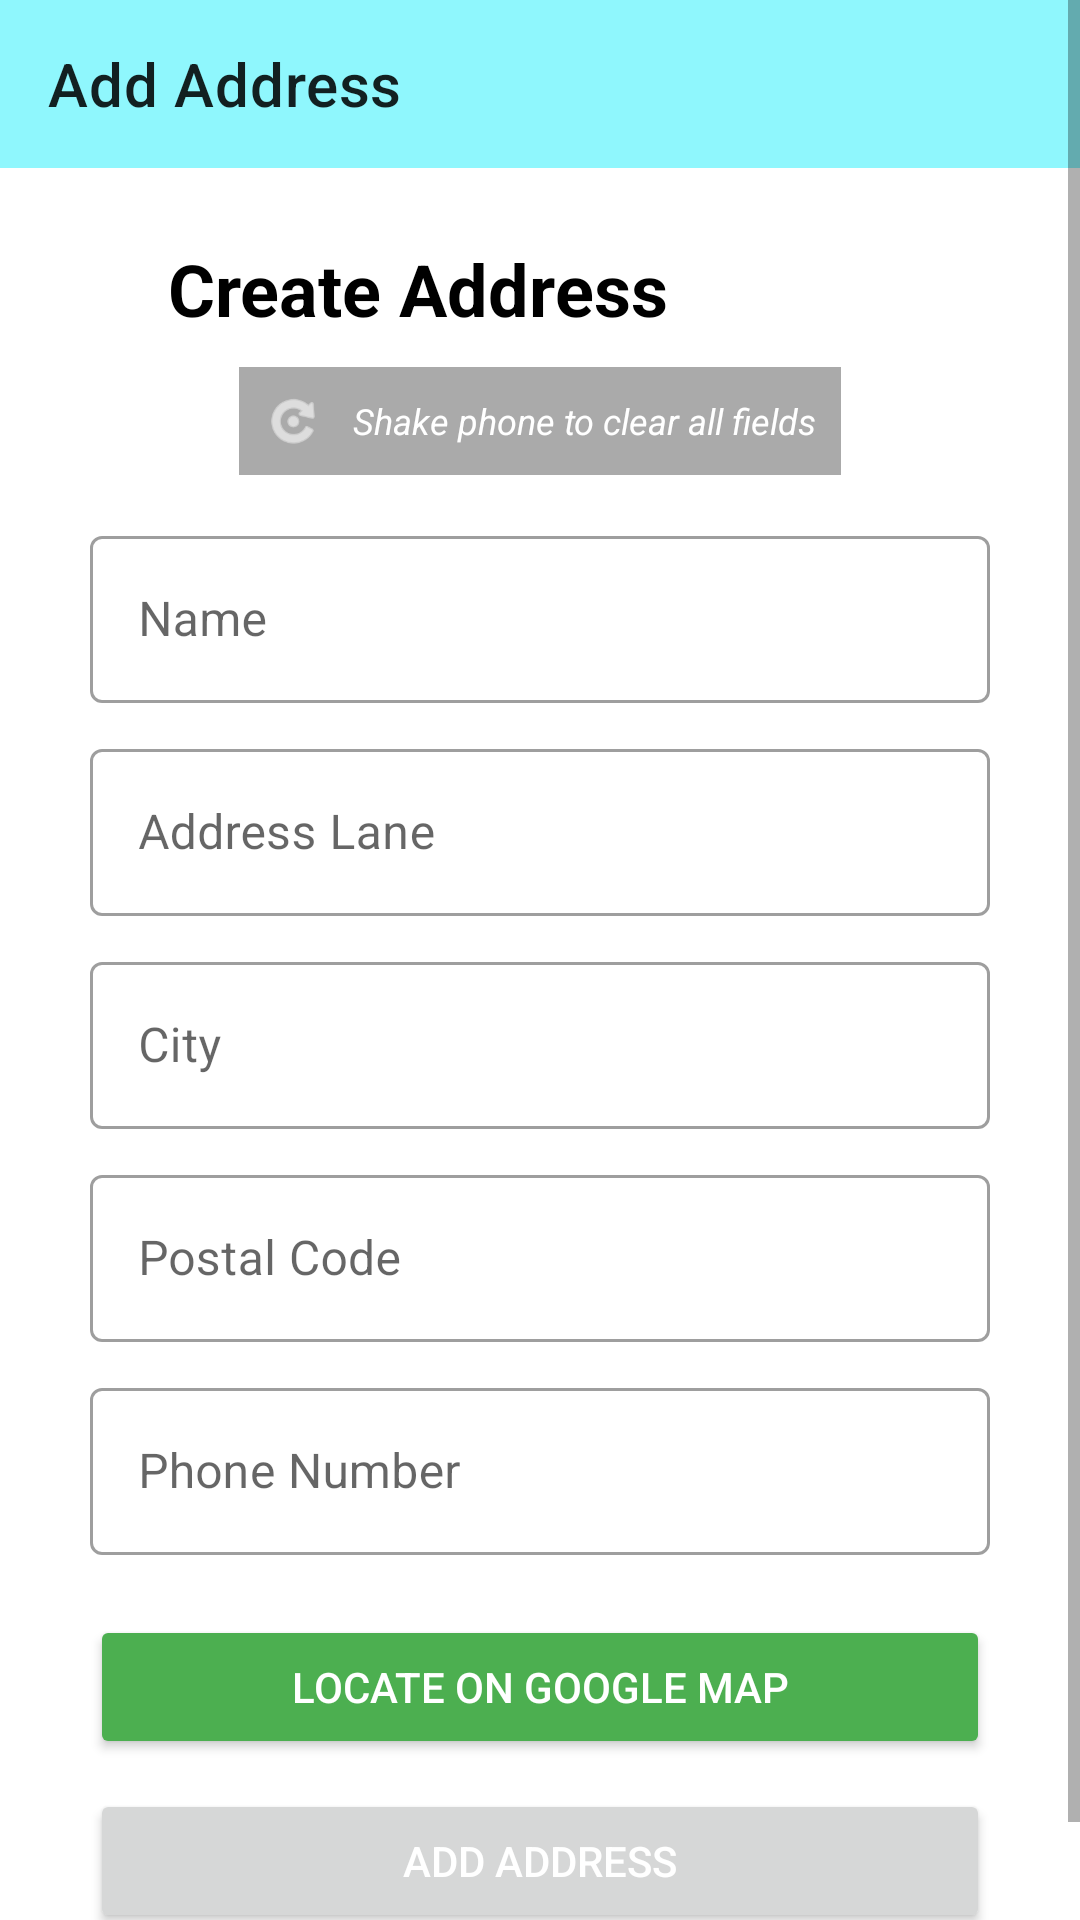

Icon bounding boxes for this 1080w x 1920h phone screenshot, format (x1, y1, x2, y2):
rotate: (271, 399, 315, 443)
